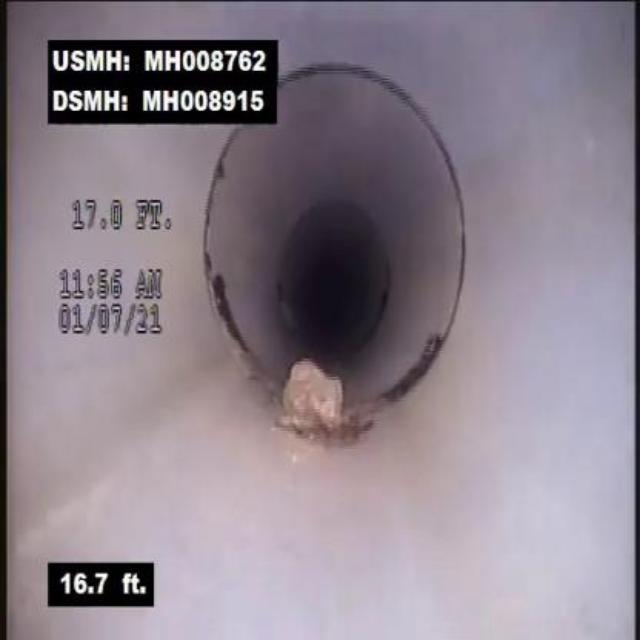Debris: (237, 326, 388, 455)
